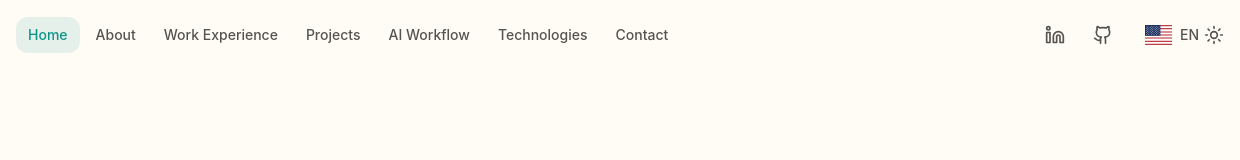
Test: Header › should toggle locale when language button is clicked
This screenshot has width=1240, height=160.
Click the button labelled "EN" at (1158, 35), box [1133, 17, 1184, 53]
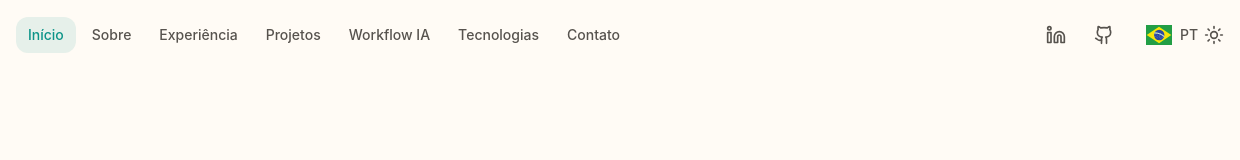
Expected: the link "Work Experience" no longer shows "en"
